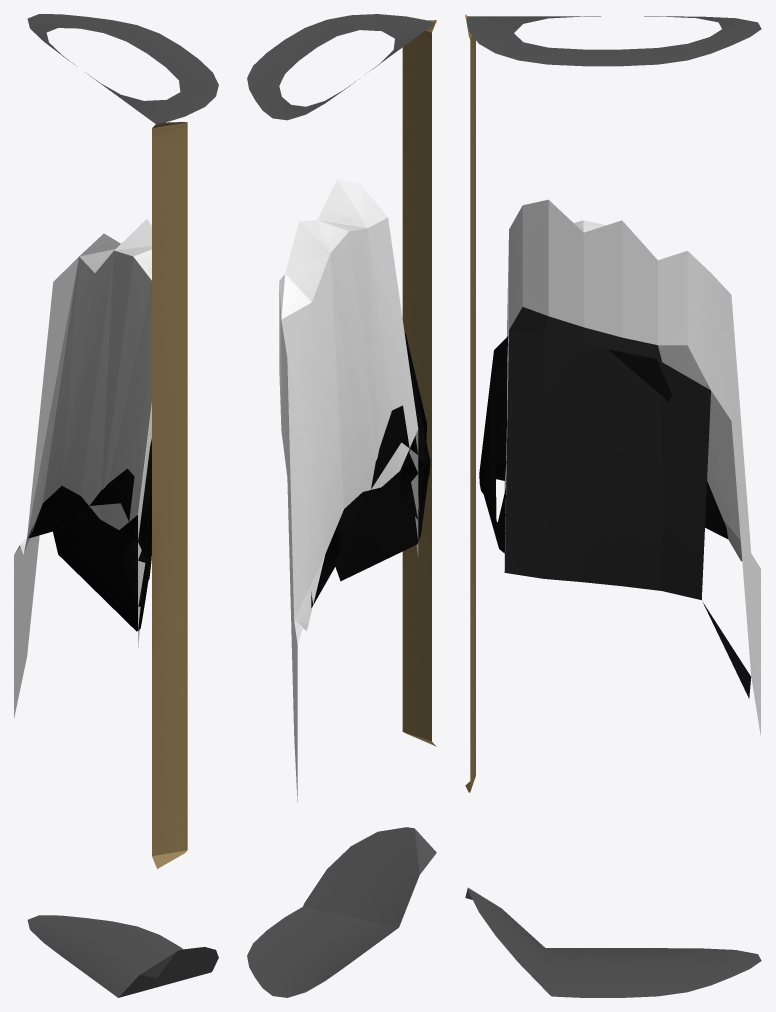
Rendered from newsh4-94-d.glb.
3 renders of one model, left to right at view 1: azimuth 30°, elevation 25°; view 2: azimuth 150°, elevation 25°; view 3: azimuth 270°, elevation 25°, orthographic. The views are drawn at different scales.
Parts seen in each view (by area): view 1: newsh4-94, newsh4-94_outline; view 2: newsh4-94, newsh4-94_outline; view 3: newsh4-94, newsh4-94_outline.
Boxes of the visible parts, <box> form: newsh4-94: <box>14,14,218,997</box>; newsh4-94_outline: <box>28,439,151,631</box>; newsh4-94: <box>247,14,436,997</box>; newsh4-94_outline: <box>311,333,430,607</box>; newsh4-94: <box>465,14,761,997</box>; newsh4-94_outline: <box>479,336,728,553</box>.
Size of the model in its own units: 0.1243 by 1.09 by 0.3124.
Materials: 5 (4 with a texture image).
